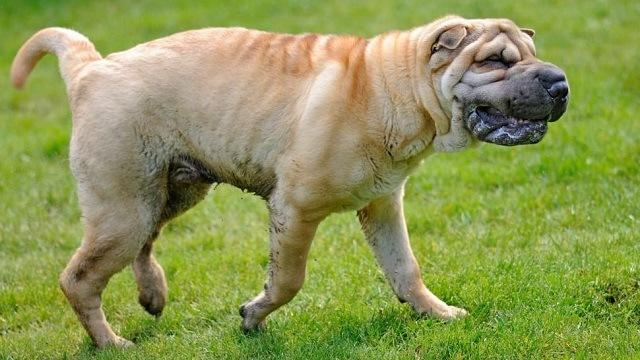fracture: (101, 224, 190, 341)
